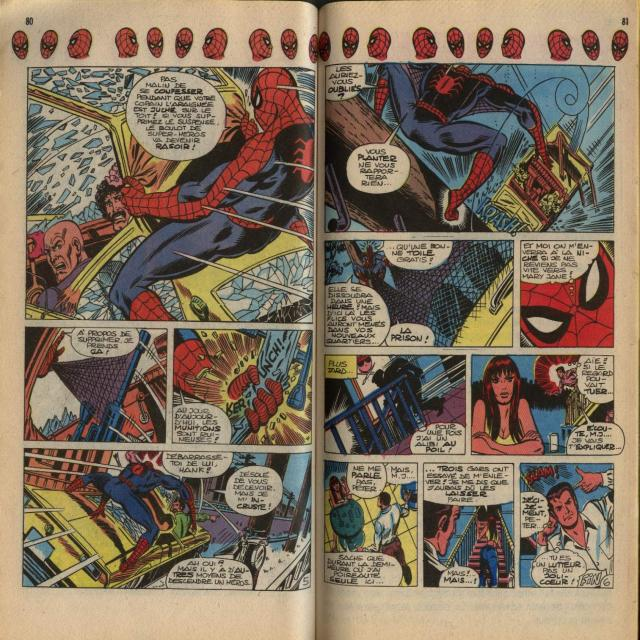comic_panel: (24, 64, 317, 324), (322, 60, 616, 236), (22, 446, 314, 594), (322, 237, 515, 349), (21, 324, 169, 443), (171, 328, 314, 448), (470, 351, 628, 456), (323, 352, 469, 457), (323, 458, 421, 590), (516, 460, 616, 589), (421, 461, 517, 592), (518, 238, 616, 350)
